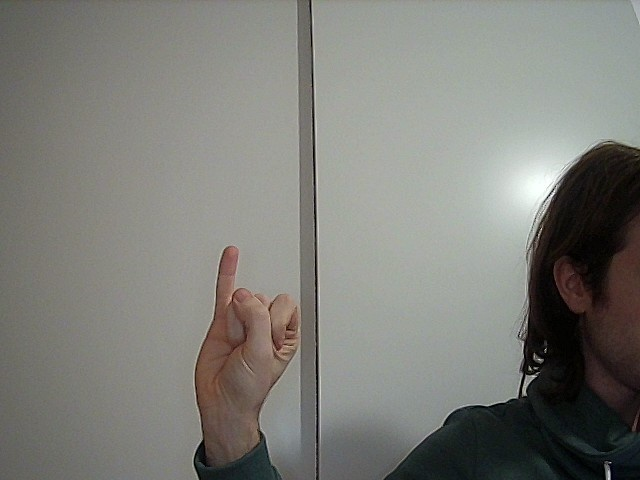i: (192, 233, 323, 407)
